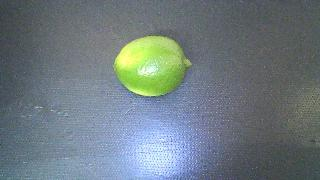EXPORTACION: (113, 36, 192, 97)
